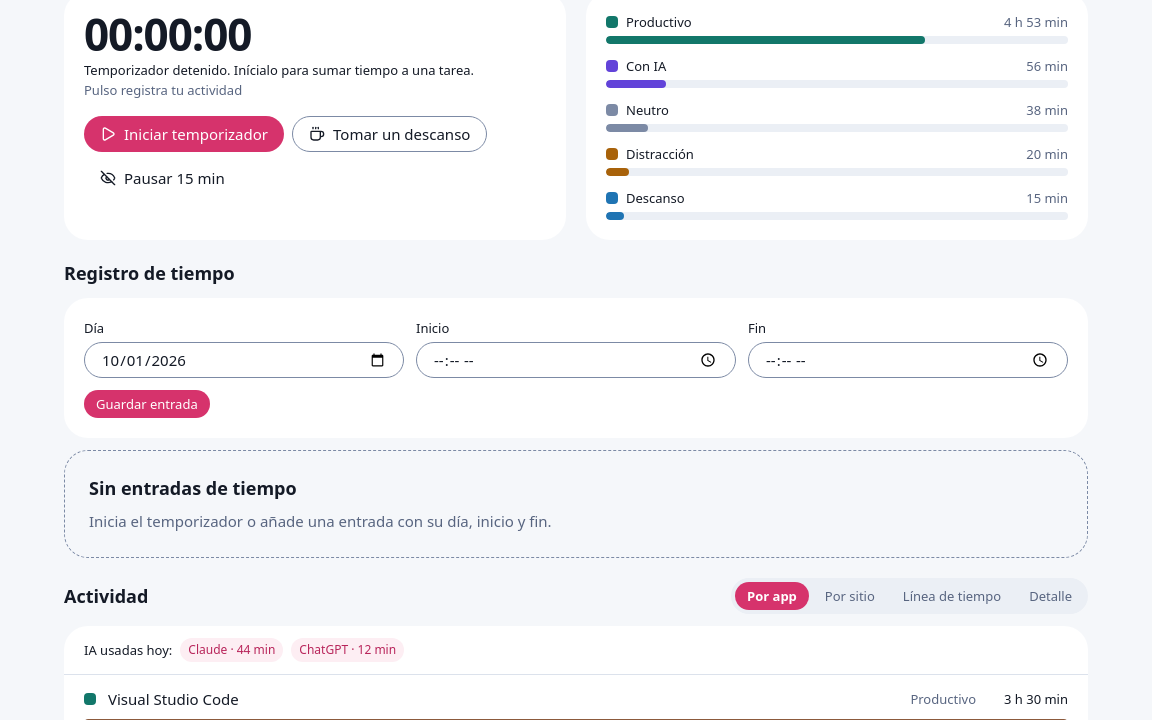
Test: Mi día › registro de tiempo › edita una entrada
This screenshot has width=1152, height=720.
(page scrolled)
Check: the heading "Sin entradas de tiempo" is shown, box left=89, top=475, right=297, bottom=501
Type "09:00" into the time field labelled "Inicio".
click(576, 360); type("09:00")  # box left=416, top=342, right=736, bottom=378
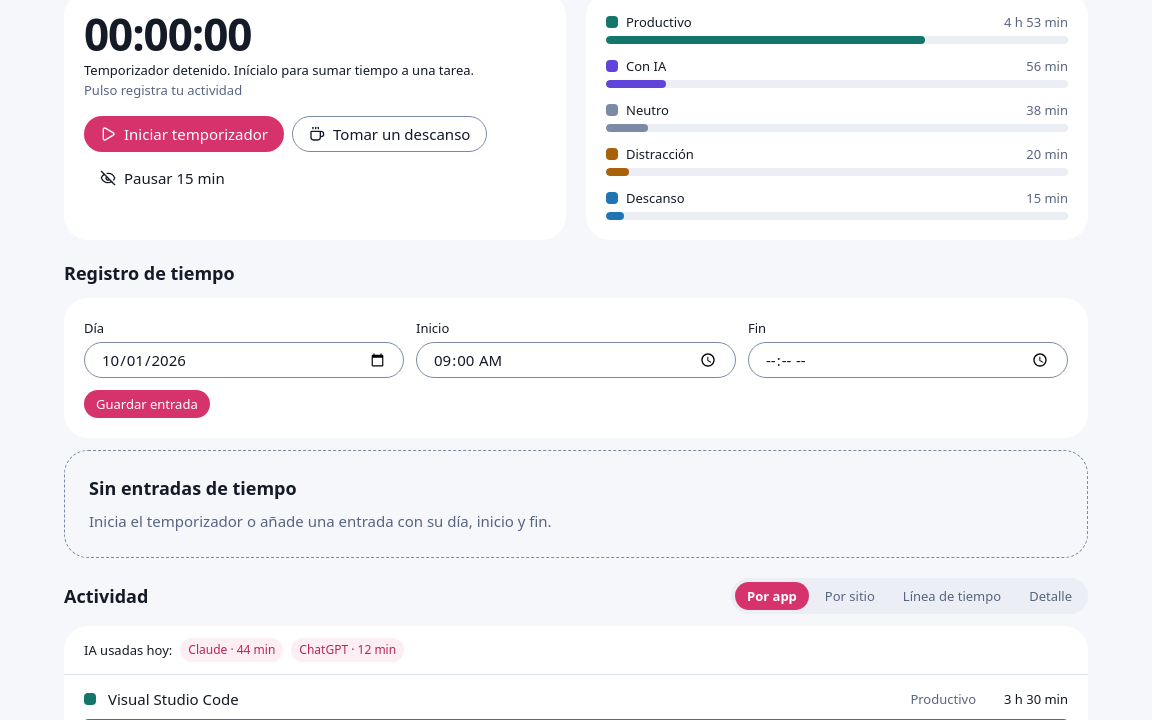
Type "10:00" into the time field labelled "Fin".
click(908, 360); type("10:00")  # box left=748, top=342, right=1068, bottom=378
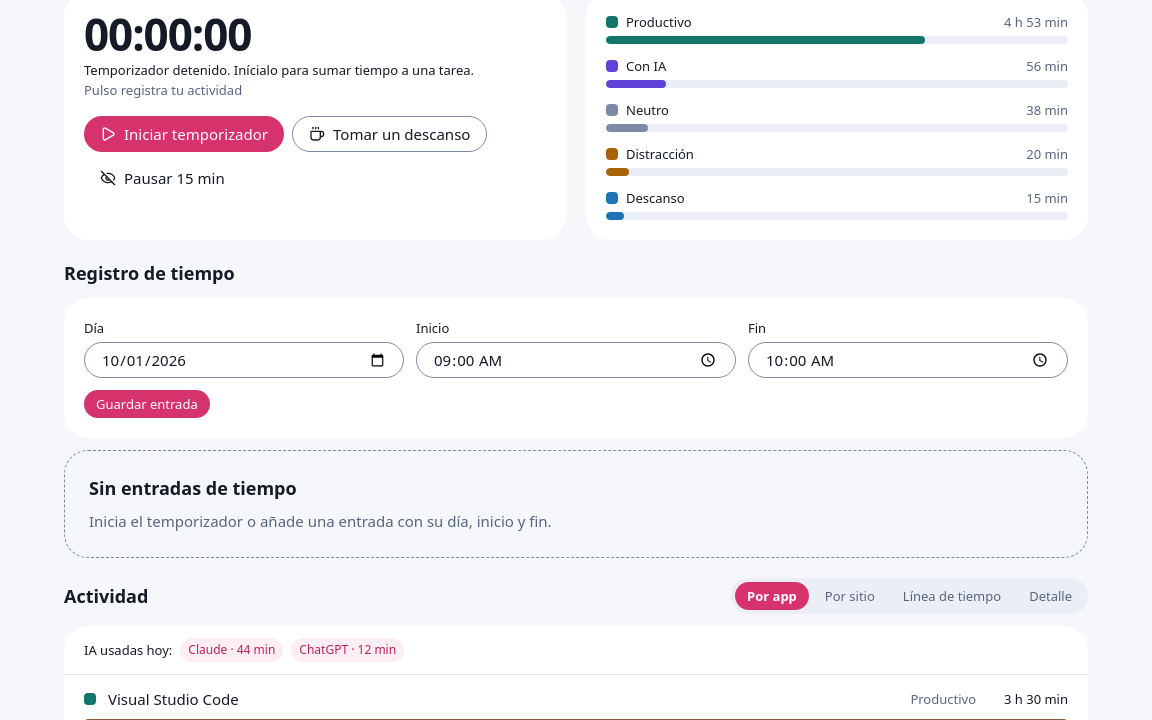
Click the button "Guardar entrada".
click(147, 404)  # box left=84, top=390, right=210, bottom=418
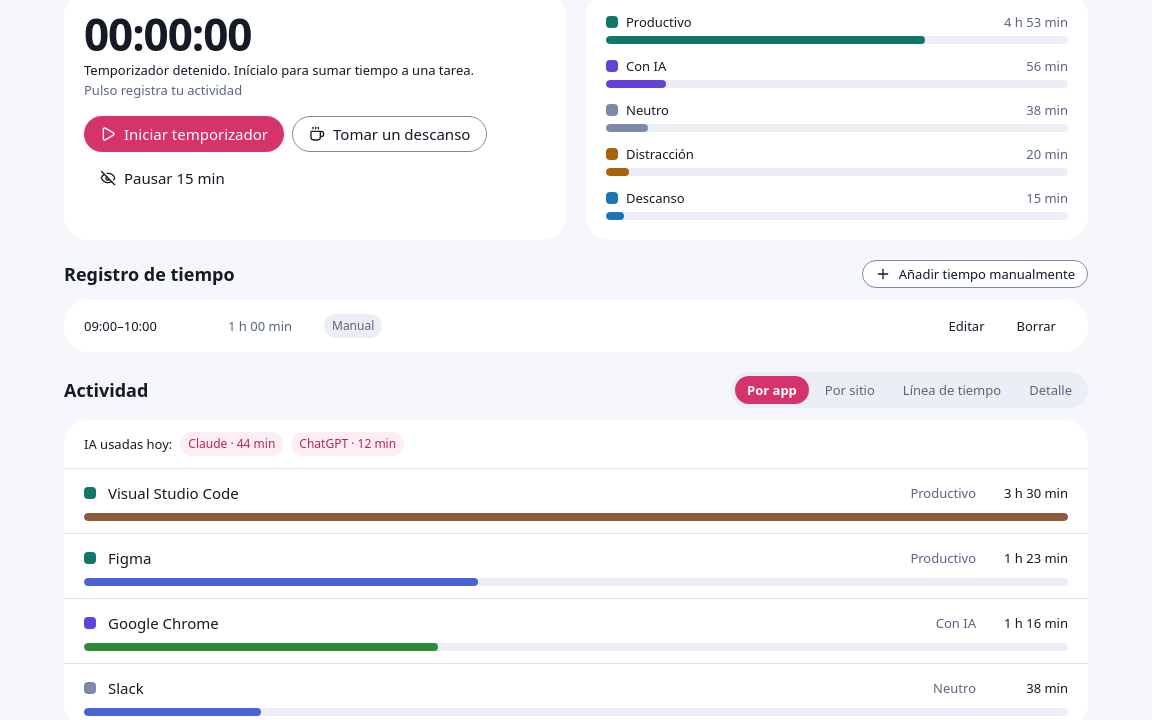
Click the button with aria-label "Editar entrada de 09:00–10:00".
click(967, 326)  # box left=937, top=312, right=996, bottom=340
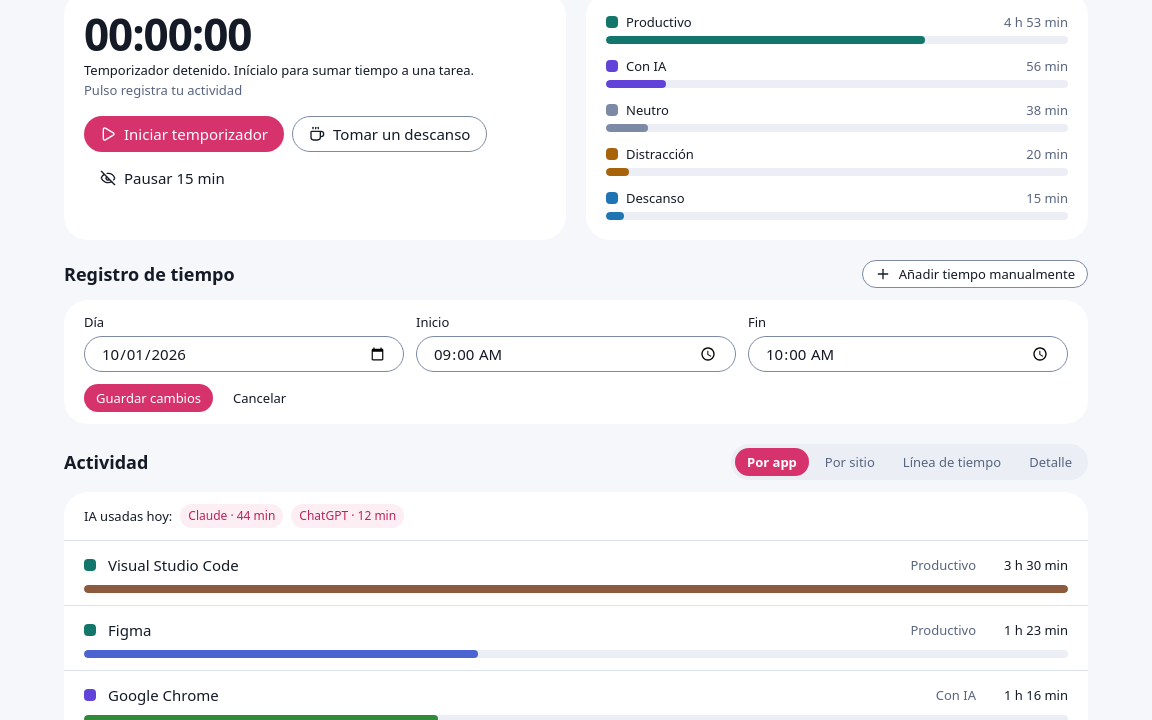
Replace the text in the time field labelled "Fin" with "11:15" at (908, 354), box left=748, top=336, right=1068, bottom=372
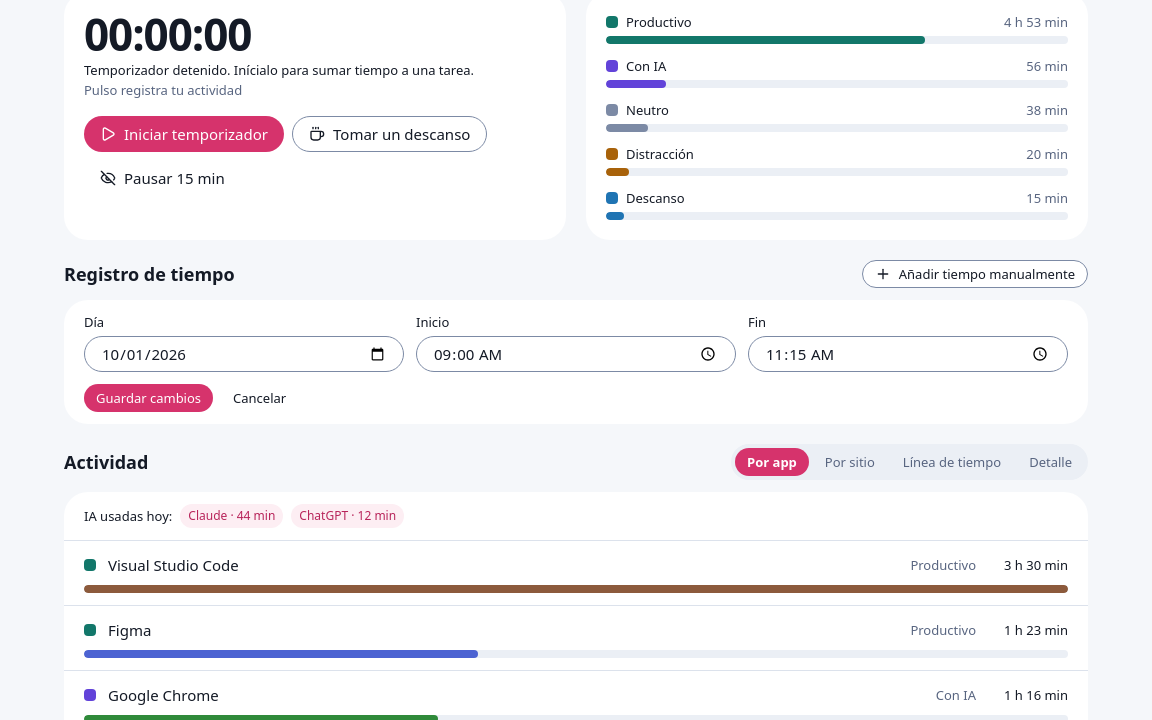
Click the button "Guardar cambios".
click(149, 398)  # box left=84, top=384, right=213, bottom=412
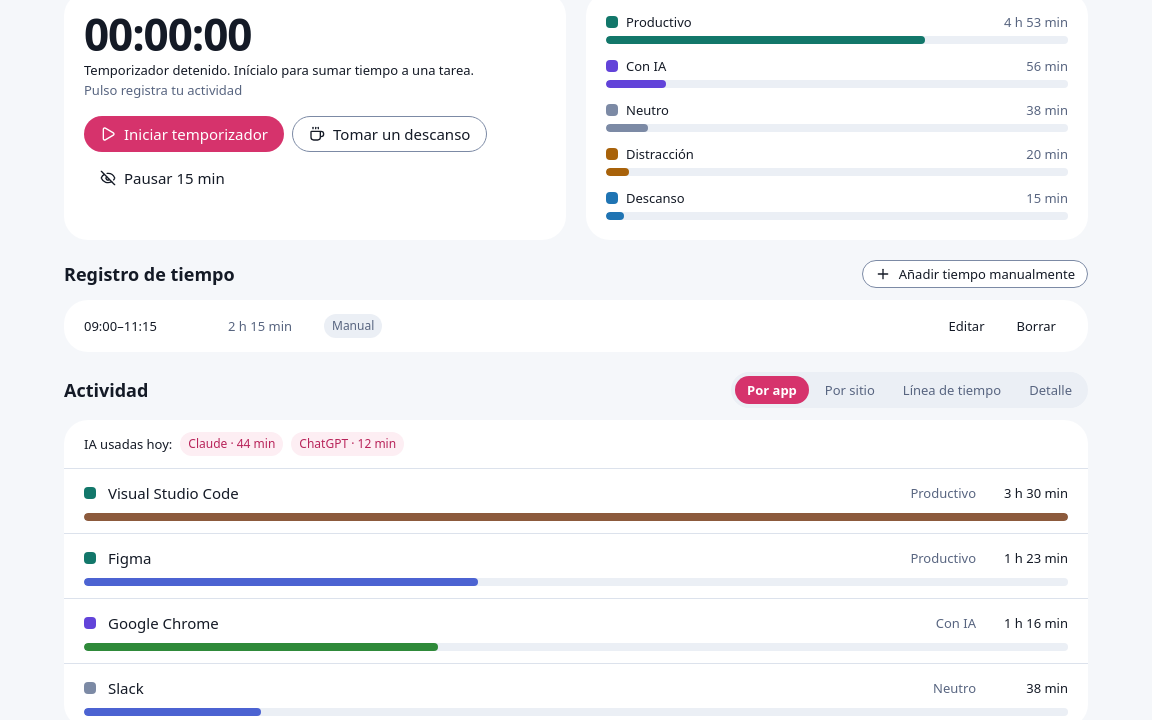
Check: the text "09:00–11:15" is shown, box left=84, top=317, right=157, bottom=335
